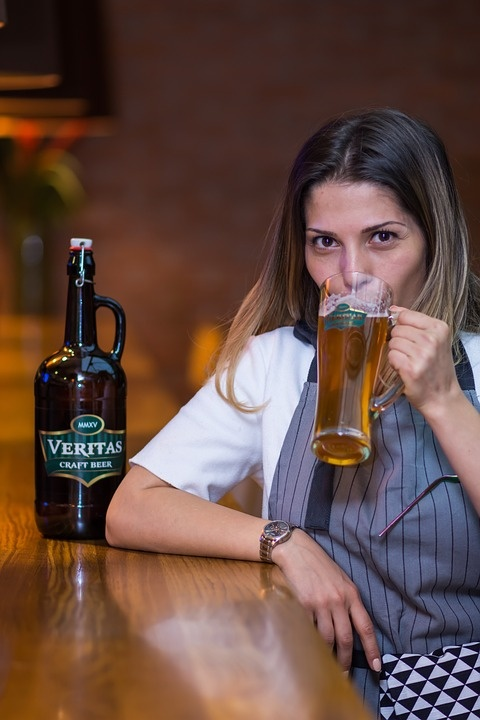glassBeer: (306, 276, 391, 454)
